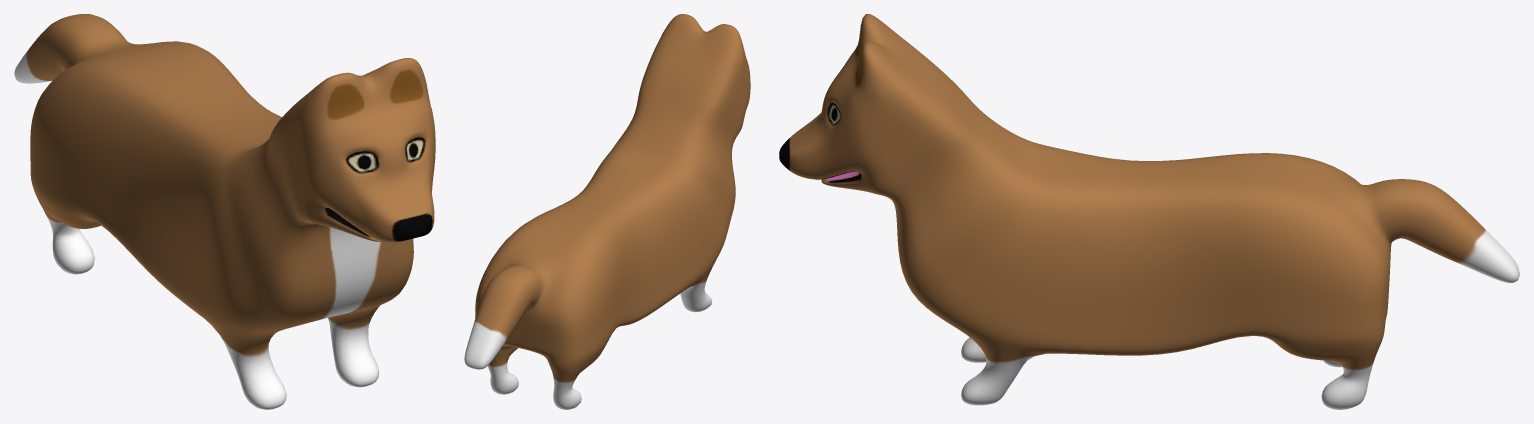
Rendered from Dog_corgiV6.fbx.
The picture shows the model from 3 angles, left to right: view 1: azimuth 30°, elevation 25°; view 2: azimuth 150°, elevation 25°; view 3: azimuth 270°, elevation 25°; orthographic projection. The views are drawn at different scales.
Parts seen in each view (by area): view 1: Plane; view 2: Plane; view 3: Plane.
Boxes of the visible parts, x1,y1,x2,y2 form: Plane: (14,14,435,409); Plane: (464,14,750,409); Plane: (779,14,1519,409).
Size of the model in its own units: 101 by 222 by 419.
